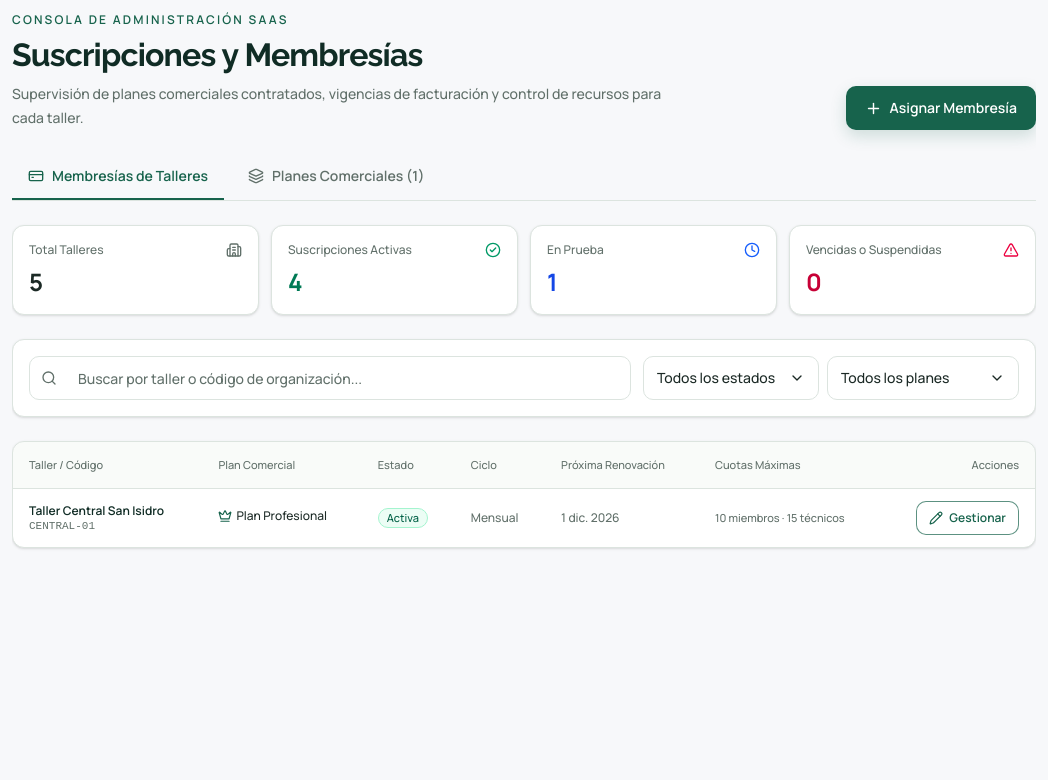
Test: PlatformSubscriptionsPage › permite cambiar a la pestaña de Planes Comerciales y ver las tarjetas con sus cuotas
Click the button "Planes Comerciales (1)" at [336, 177], box [232,154,440,200]
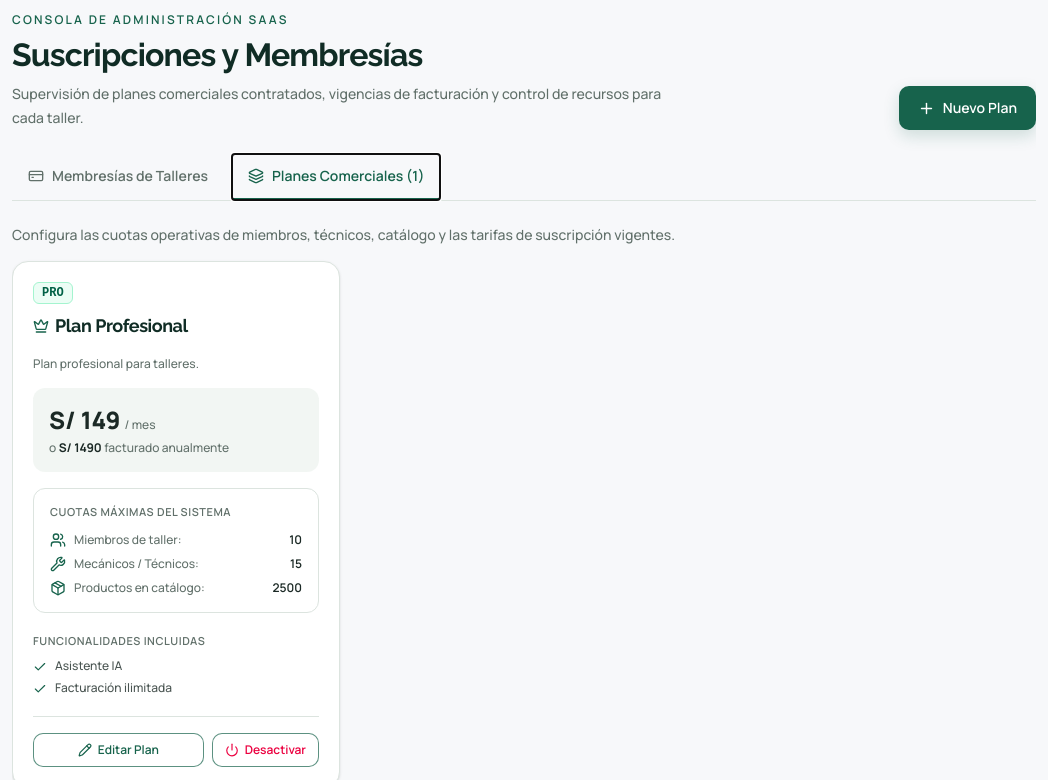
Check: the heading "Plan Profesional" is shown, box [33,312,188,340]
Check: the text "S/ 149" is shown, box [49,404,120,436]
Check: the text "S/ 1490" is shown, box [59,439,102,456]
